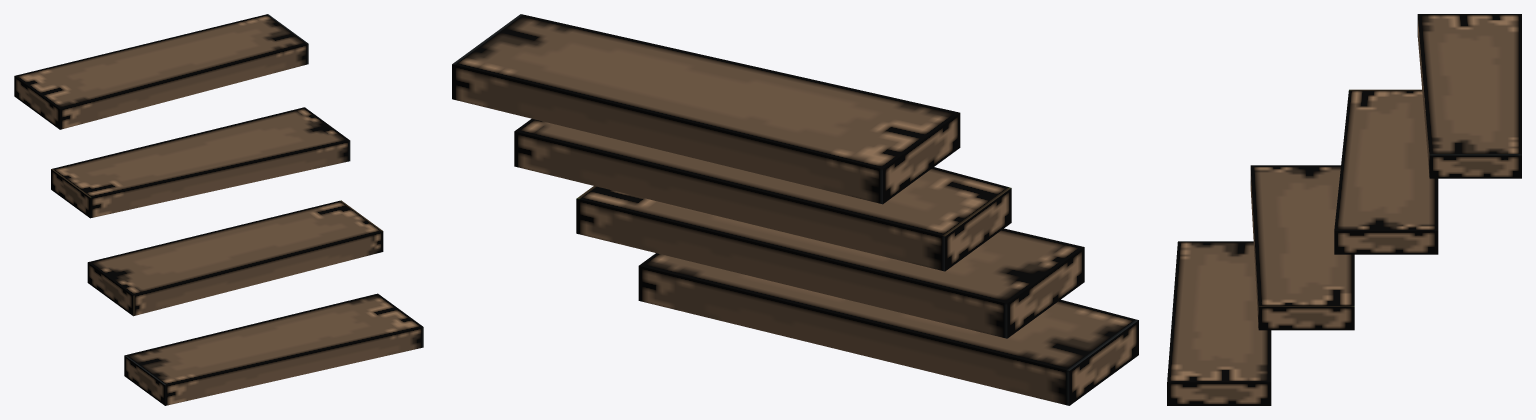
Rendered from deco_winter_stairsOverlayWood.FBX.
3 views of the same model, side by side, from view 1: azimuth 30°, elevation 25°; view 2: azimuth 150°, elevation 25°; view 3: azimuth 270°, elevation 25° (orthographic). The views are drawn at different scales.
Parts seen in each view (by area): view 1: deco_winter_stairsOverlayWood; view 2: deco_winter_stairsOverlayWood; view 3: deco_winter_stairsOverlayWood.
Part boxes in pixels (x1=…): deco_winter_stairsOverlayWood: x1=14, y1=14, x2=423, y2=405; deco_winter_stairsOverlayWood: x1=452, y1=14, x2=1138, y2=405; deco_winter_stairsOverlayWood: x1=1167, y1=14, x2=1521, y2=405.
Size of the model in its own units: 2 by 1.66 by 2.12.
1 material, 1 textured.
